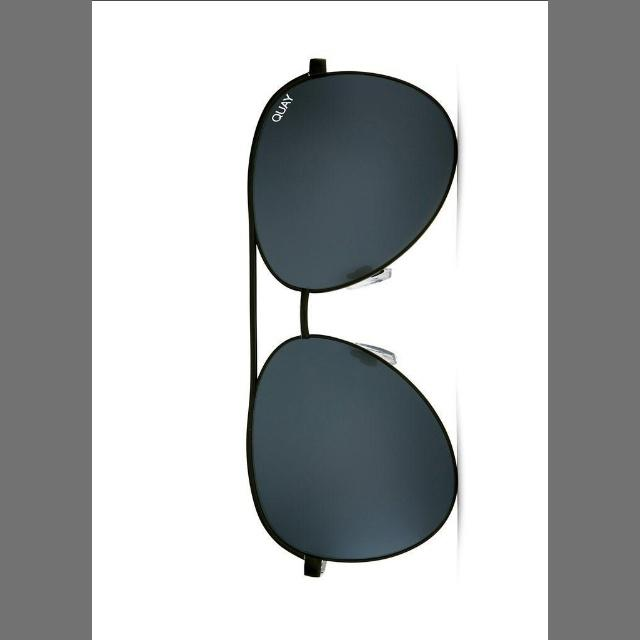Sunglasses: (168, 43, 544, 602)
